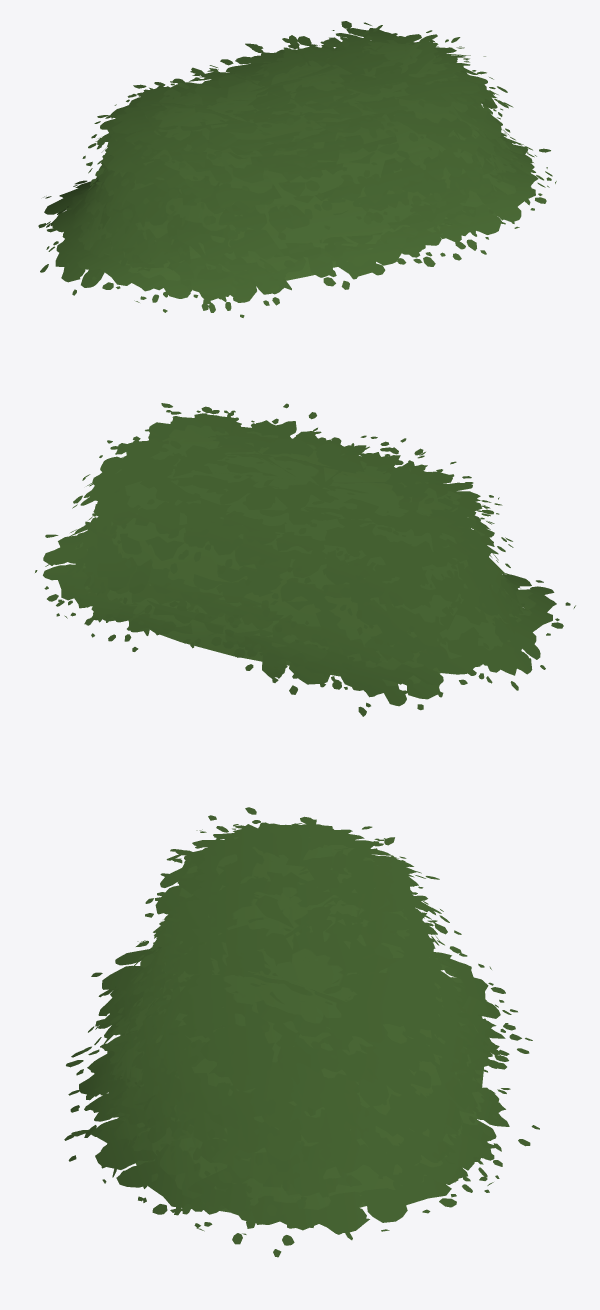
File: SM_Env_Hedge_02.fbx
The picture shows the model from 3 angles, top to bottom: view 1: azimuth 30°, elevation 25°; view 2: azimuth 150°, elevation 25°; view 3: azimuth 270°, elevation 25°; orthographic projection. The views are drawn at different scales.
Visible parts, largest first — view 1: SM_Env_Hedge_02_LOD0; view 2: SM_Env_Hedge_02_LOD0; view 3: SM_Env_Hedge_02_LOD0.
Part boxes in pixels (<box>): SM_Env_Hedge_02_LOD0: <box>38,21,556,317</box>; SM_Env_Hedge_02_LOD0: <box>35,403,575,716</box>; SM_Env_Hedge_02_LOD0: <box>64,807,539,1257</box>.
Size of what is drawn, in the model's own units: 719 by 272 by 517.
